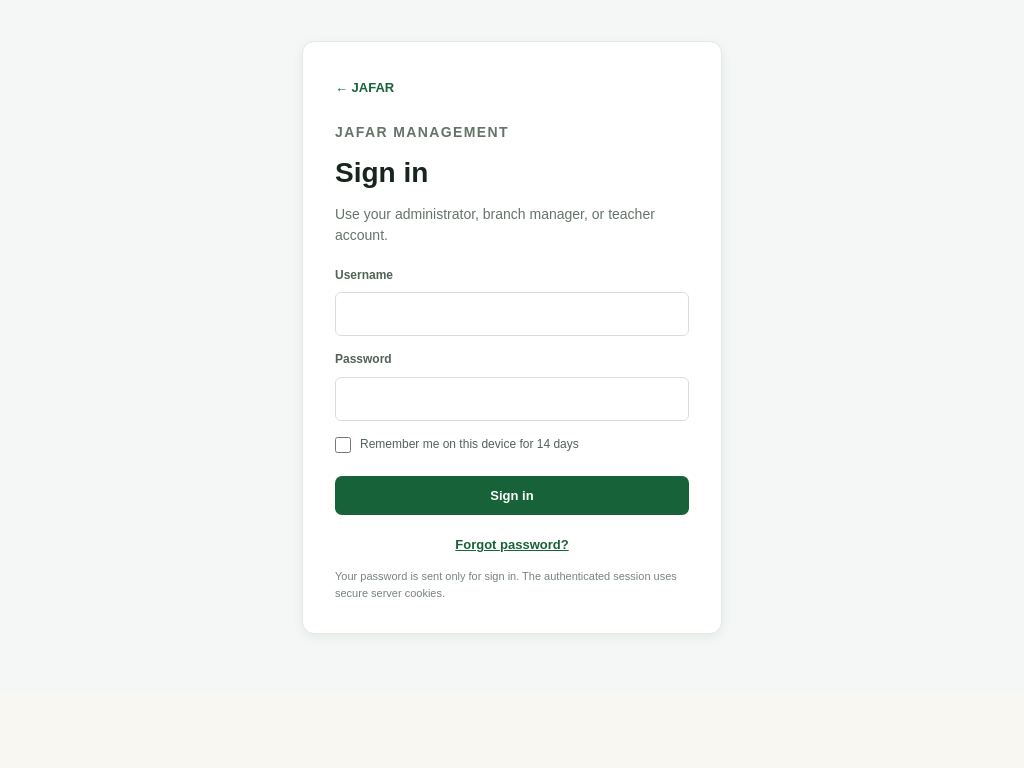
Test case: Role-based navigation › Branch Manager sees Teachers and Branches but not Users
Check: the heading "Sign in" is shown, box [335,157,428,188]
In the field labelled "Username": coordinates (512, 314) [335,292,689,336], type "manager1"
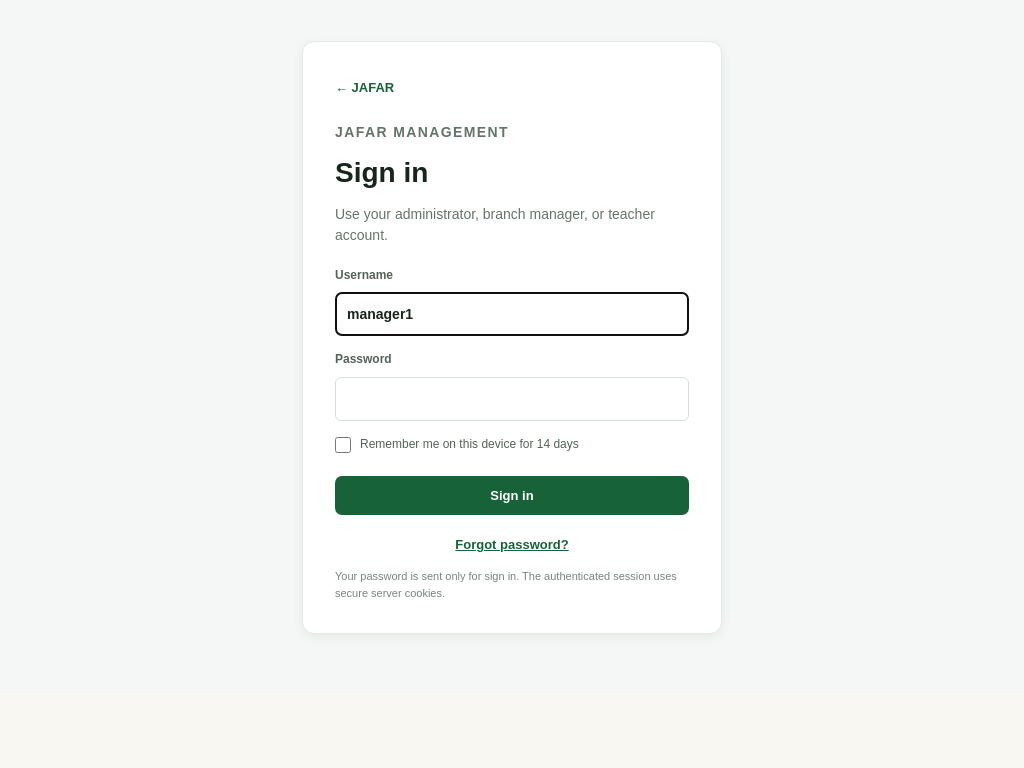
In the password field labelled "Password": coordinates (512, 399) [335,377,689,421], type "managerpass"
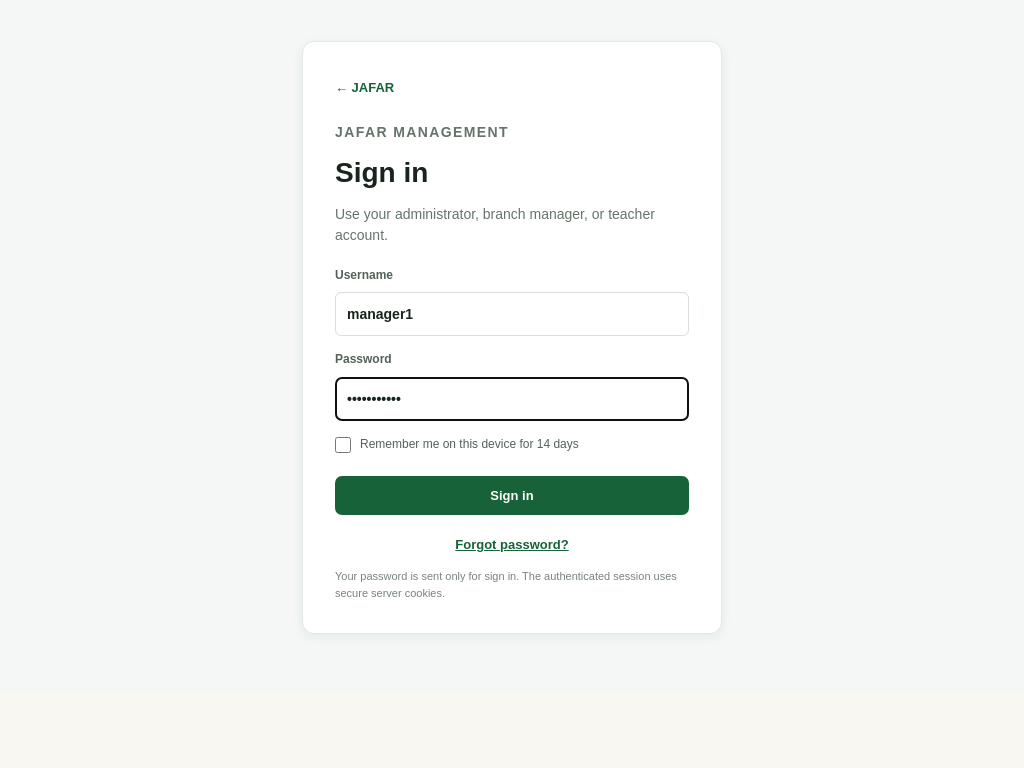
Click the button "Sign in": coordinates (512, 496) [335,476,689,515]
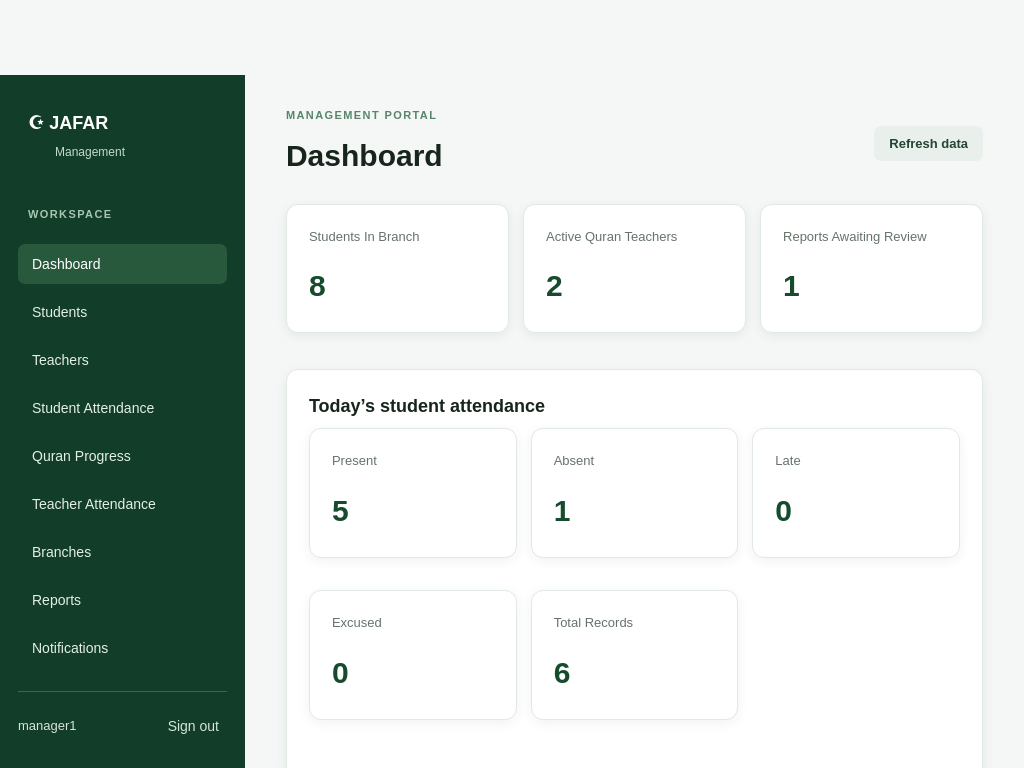
Check: the heading "Dashboard" is shown, box [286,132,443,180]
Check: the button "Teachers" is shown, box [18,340,227,380]
Check: the button "Teacher Attendance" is shown, box [18,484,227,524]
